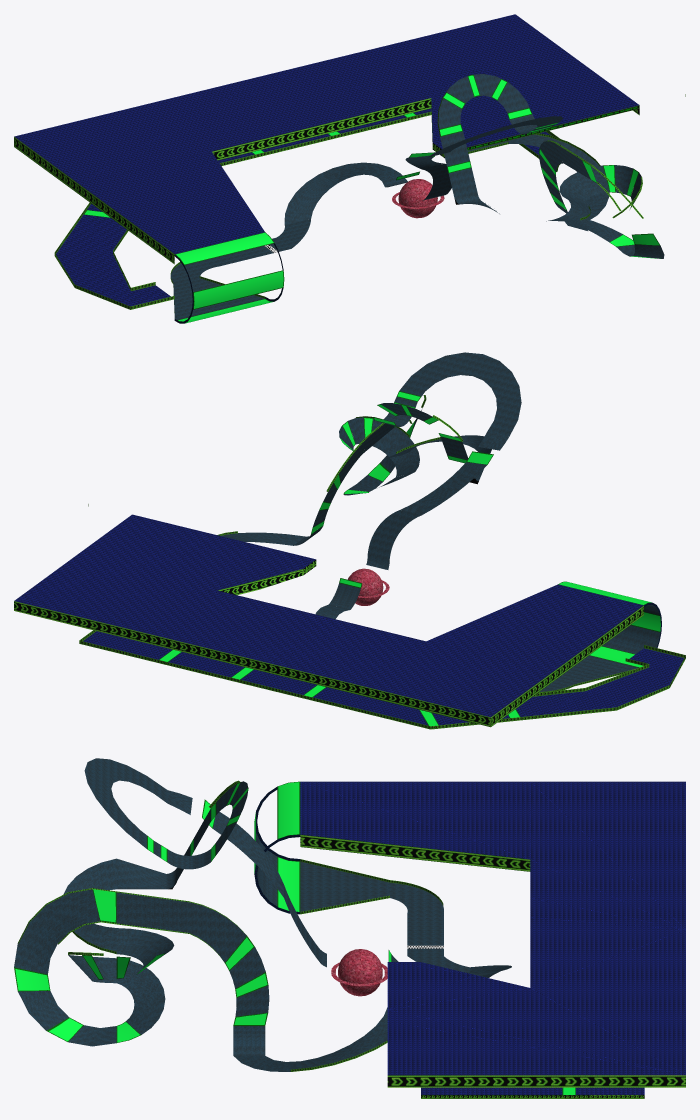
3 renders of one model, top to bottom at view 1: azimuth 30°, elevation 25°; view 2: azimuth 150°, elevation 25°; view 3: azimuth 270°, elevation 25°, orthographic. The views are drawn at different scales.
Visible parts, largest first — view 1: twist-SKP--plasma, twist-SKP--road, twist-SKP--arrow_g, twist-SKP--boostpfeil, twist-SKP--boostrand, twist-SKP--planet, twist-SKP--agz; view 2: twist-SKP--plasma, twist-SKP--road, twist-SKP--arrow_g, twist-SKP--boostpfeil, twist-SKP--boostrand, twist-SKP--planet; view 3: twist-SKP--plasma, twist-SKP--road, twist-SKP--arrow_g, twist-SKP--boostpfeil, twist-SKP--boostrand, twist-SKP--planet, twist-SKP--bouncy.
Part boxes in pixels (left/top/right/bottom): twist-SKP--plasma: left=14, top=14, right=639, bottom=306; twist-SKP--road: left=170, top=74, right=664, bottom=319; twist-SKP--arrow_g: left=14, top=92, right=685, bottom=312; twist-SKP--boostpfeil: left=84, top=75, right=660, bottom=323; twist-SKP--boostrand: left=84, top=74, right=660, bottom=322; twist-SKP--planet: left=392, top=179, right=444, bottom=218; twist-SKP--agz: left=467, top=106, right=639, bottom=149; twist-SKP--plasma: left=14, top=514, right=684, bottom=725; twist-SKP--road: left=221, top=352, right=660, bottom=691; twist-SKP--arrow_g: left=14, top=395, right=685, bottom=729; twist-SKP--boostpfeil: left=160, top=392, right=660, bottom=726; twist-SKP--boostrand: left=159, top=391, right=659, bottom=725; twist-SKP--planet: left=348, top=568, right=389, bottom=605; twist-SKP--plasma: left=300, top=781, right=685, bottom=1094; twist-SKP--road: left=14, top=758, right=511, bottom=1071; twist-SKP--arrow_g: left=18, top=780, right=685, bottom=1098; twist-SKP--boostpfeil: left=15, top=782, right=575, bottom=1094; twist-SKP--boostrand: left=14, top=781, right=575, bottom=1094; twist-SKP--planet: left=331, top=949, right=387, bottom=996; twist-SKP--bouncy: left=254, top=787, right=300, bottom=914.
Bounding box in the file's own units: 110985 × 35024 × 88082.
10 materials, 10 textured.
